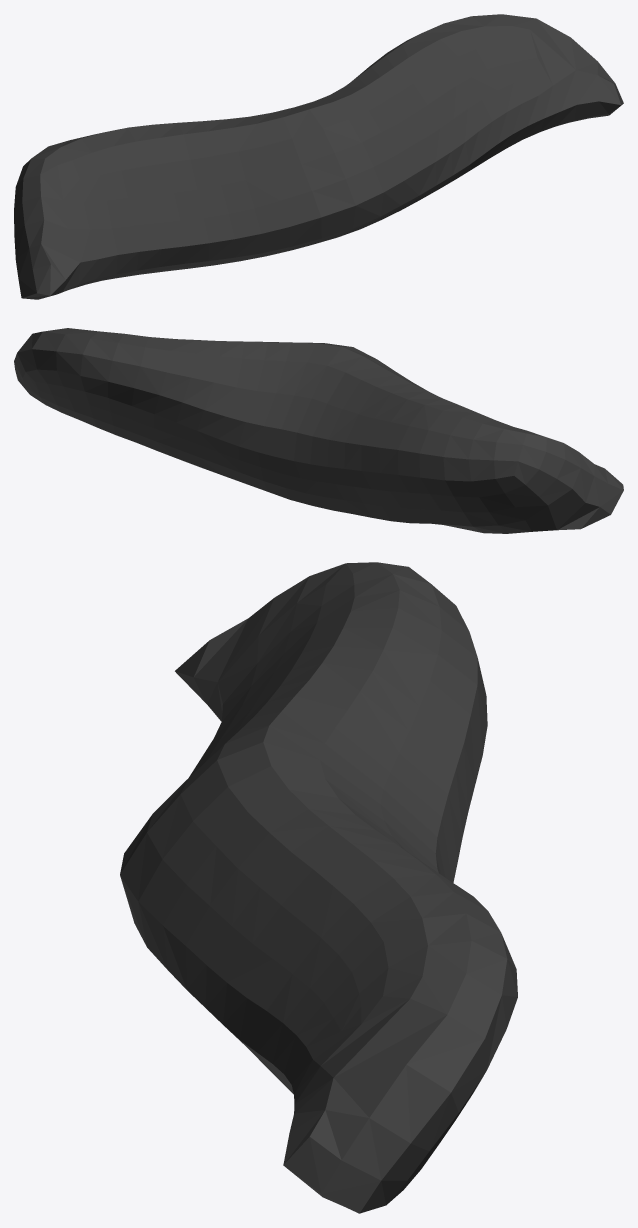
The model's file is fibrocartilage.glb.
3 renders of one model, top to bottom at view 1: azimuth 30°, elevation 25°; view 2: azimuth 150°, elevation 25°; view 3: azimuth 270°, elevation 25°, orthographic. The views are drawn at different scales.
Parts seen in each view (by area): view 1: fibrocartilage; view 2: fibrocartilage; view 3: fibrocartilage.
Boxes of the visible parts, x1=… form: fibrocartilage: x1=14, y1=14, x2=623, y2=299; fibrocartilage: x1=14, y1=328, x2=623, y2=533; fibrocartilage: x1=120, y1=562, x2=517, y2=1213.
Bounding box in the file's own units: 1.67 × 0.388 × 0.507.
1 material, 1 textured.
